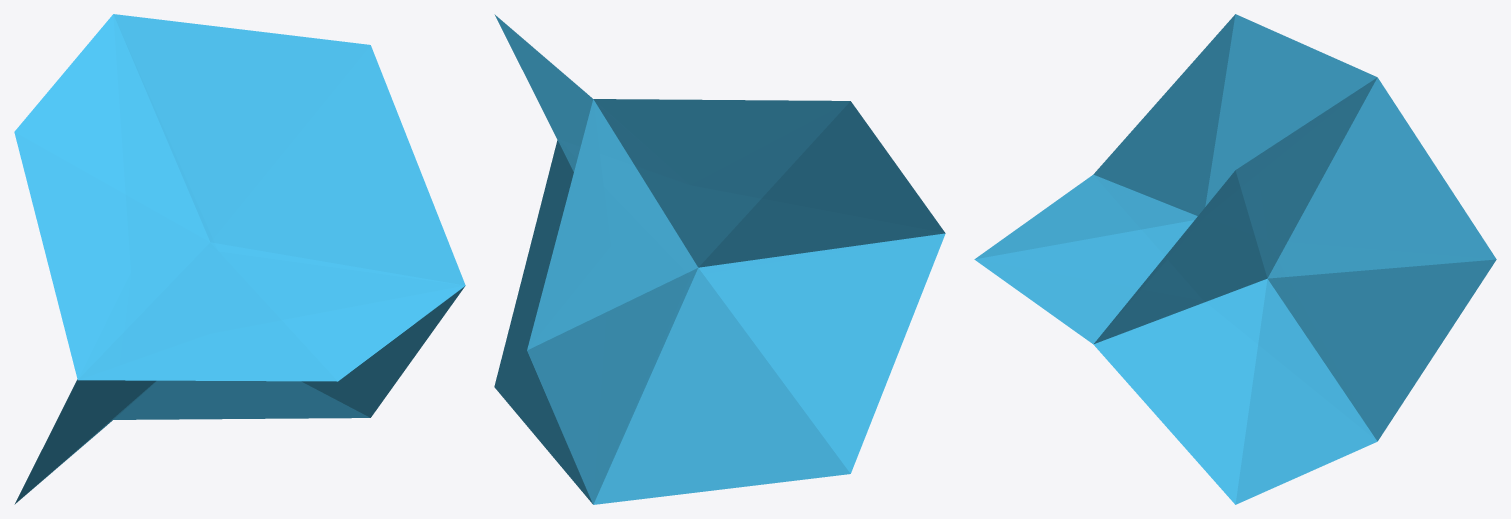
File: Mobius24.obj
3 views of the same model, side by side, from view 1: azimuth 30°, elevation 25°; view 2: azimuth 150°, elevation 25°; view 3: azimuth 270°, elevation 25° (orthographic). The views are drawn at different scales.
Bounding box in the file's own units: 1.72 × 1.72 × 2.24.
